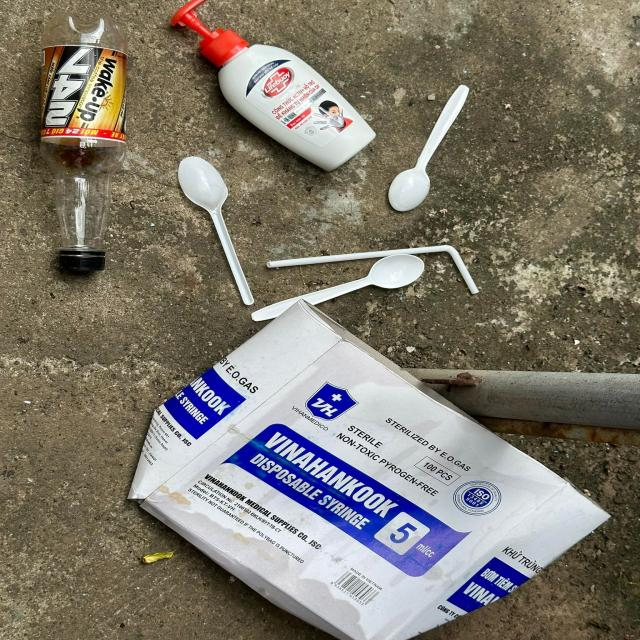bottle: (170, 0, 376, 172), (40, 13, 129, 272)
cardboard box: (126, 298, 612, 640)
drinking straw: (267, 244, 479, 294)
plastic utensil: (251, 254, 424, 322), (178, 157, 254, 306), (388, 84, 470, 212)
